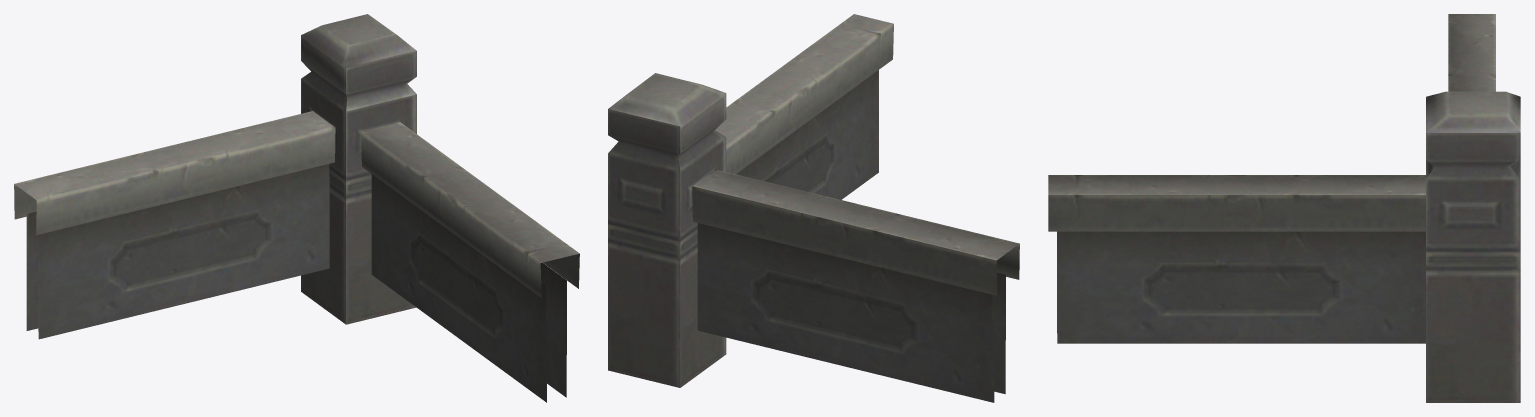
Rendered from City_bujian_29.fbx.
3 renders of one model, left to right at view 1: azimuth 30°, elevation 25°; view 2: azimuth 150°, elevation 25°; view 3: azimuth 270°, elevation 25°, orthographic. The views are drawn at different scales.
Parts seen in each view (by area): view 1: City_1_2017_3_7_2:City_1_2017_3_7_2:City_1_2017_3_7_2:polySu; view 2: City_1_2017_3_7_2:City_1_2017_3_7_2:City_1_2017_3_7_2:polySu; view 3: City_1_2017_3_7_2:City_1_2017_3_7_2:City_1_2017_3_7_2:polySu.
Boxes of the visible parts, box(x1,y1,x2,y2) form: City_1_2017_3_7_2:City_1_2017_3_7_2:City_1_2017_3_7_2:polySu: box(14, 14, 579, 402); City_1_2017_3_7_2:City_1_2017_3_7_2:City_1_2017_3_7_2:polySu: box(608, 14, 1019, 402); City_1_2017_3_7_2:City_1_2017_3_7_2:City_1_2017_3_7_2:polySu: box(1048, 14, 1520, 402).
Size of the model in its own units: 2.73 by 1.89 by 2.87.
